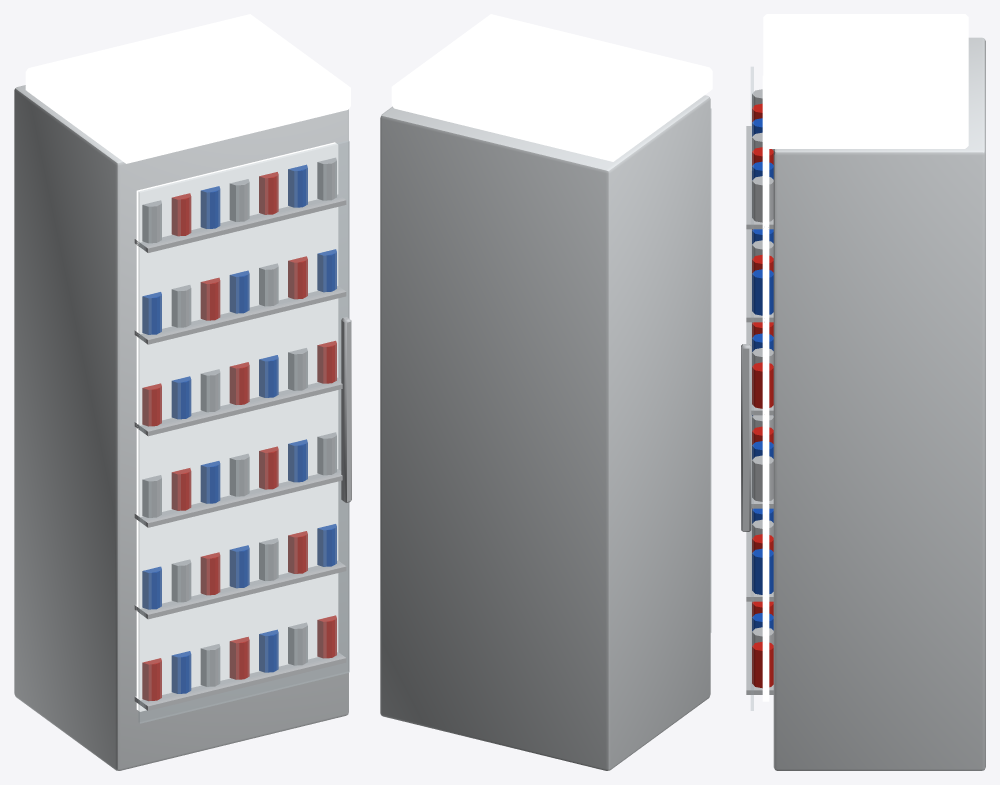
The model's file is drink_fridge.glb.
The picture shows the model from 3 angles, left to right: view 1: azimuth 30°, elevation 25°; view 2: azimuth 150°, elevation 25°; view 3: azimuth 270°, elevation 25°; orthographic projection. The views are drawn at different scales.
Visible parts, largest first — view 1: door, body, crown, handle, can, can.002, can.001; view 2: body, crown; view 3: body, crown, handle, can, can.001, can.002, door.
Boxes of the visible parts, bbox=[...] form: door: bbox=[138, 140, 349, 723]; body: bbox=[14, 85, 348, 770]; crown: bbox=[25, 14, 350, 711]; handle: bbox=[134, 194, 351, 710]; can: bbox=[142, 172, 336, 700]; can.002: bbox=[142, 157, 336, 686]; can.001: bbox=[142, 164, 336, 693]; body: bbox=[380, 95, 710, 770]; crown: bbox=[391, 14, 712, 161]; body: bbox=[773, 37, 985, 770]; crown: bbox=[762, 14, 968, 701]; handle: bbox=[741, 126, 773, 694]; can: bbox=[752, 103, 773, 688]; can.001: bbox=[752, 118, 773, 631]; can.002: bbox=[752, 89, 773, 645]; door: bbox=[751, 67, 753, 710].
Size of the model in its own units: 0.8 by 2.08 by 0.715.
